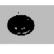correct: (5, 13, 35, 36)
